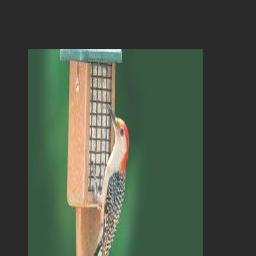Woodpecker: (84, 104, 129, 256)
